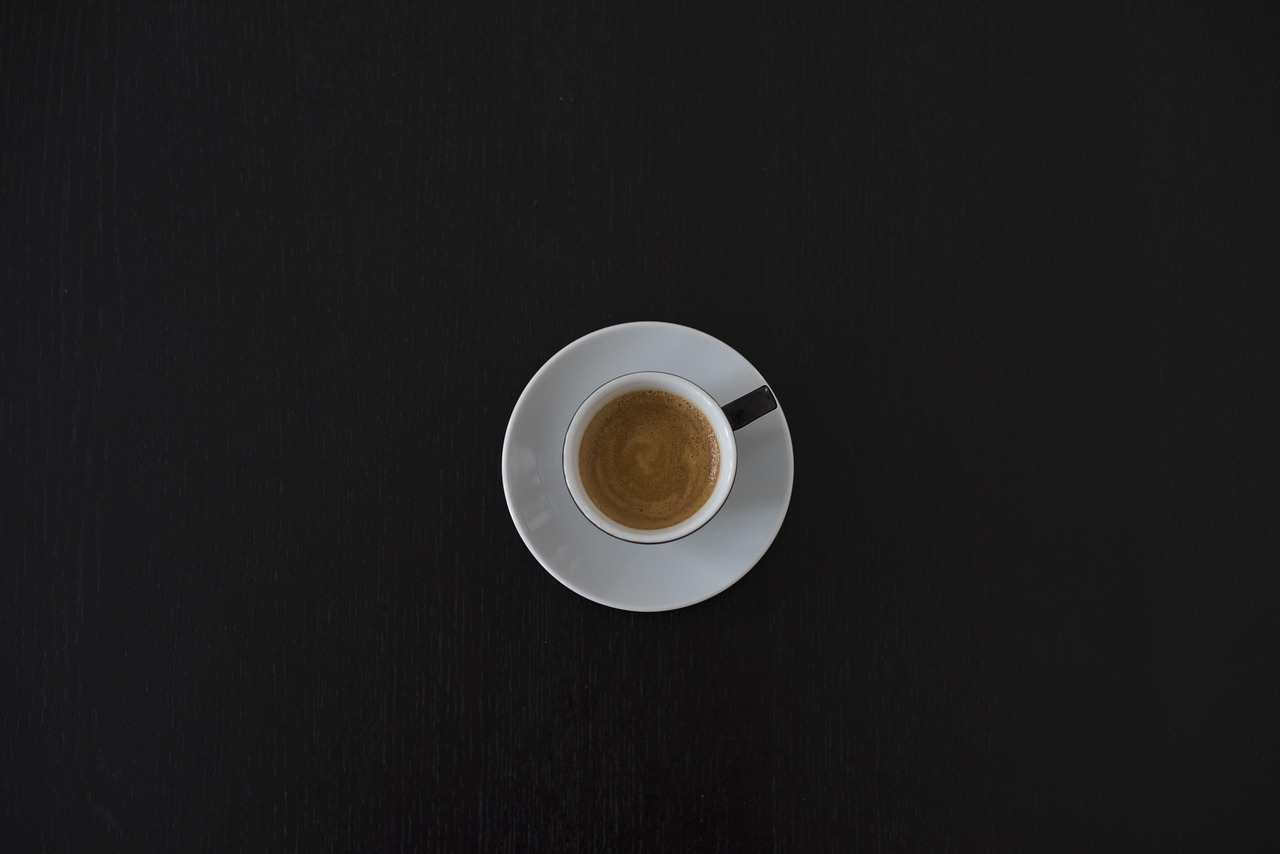mug: (453, 292, 832, 634)
